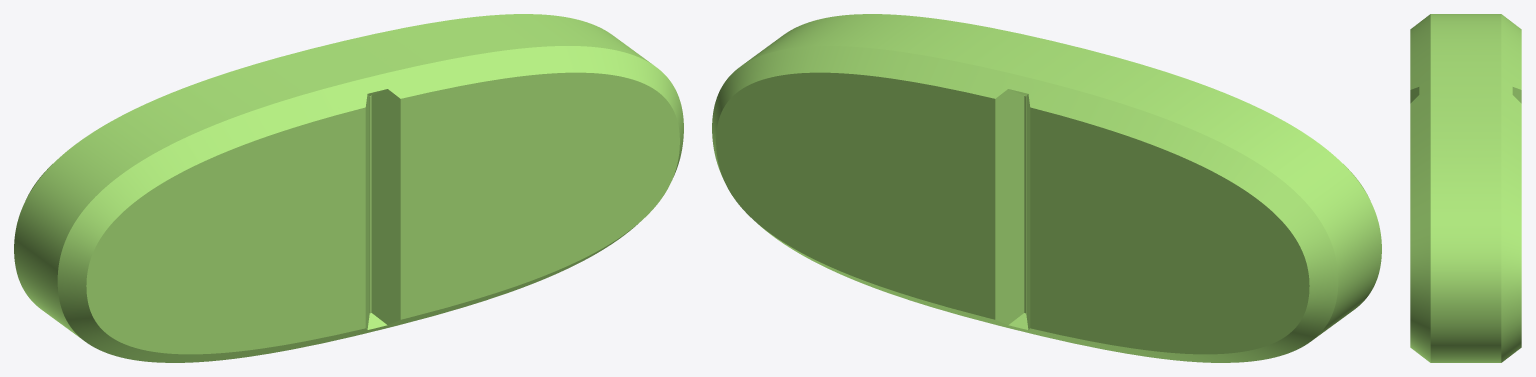
File: greenpill.gltf
3 renders of one model, left to right at view 1: azimuth 30°, elevation 25°; view 2: azimuth 150°, elevation 25°; view 3: azimuth 270°, elevation 25°, orthographic. The views are drawn at different scales.
Size of the model in its own units: 0.1493 by 0.0582 by 0.0282.
